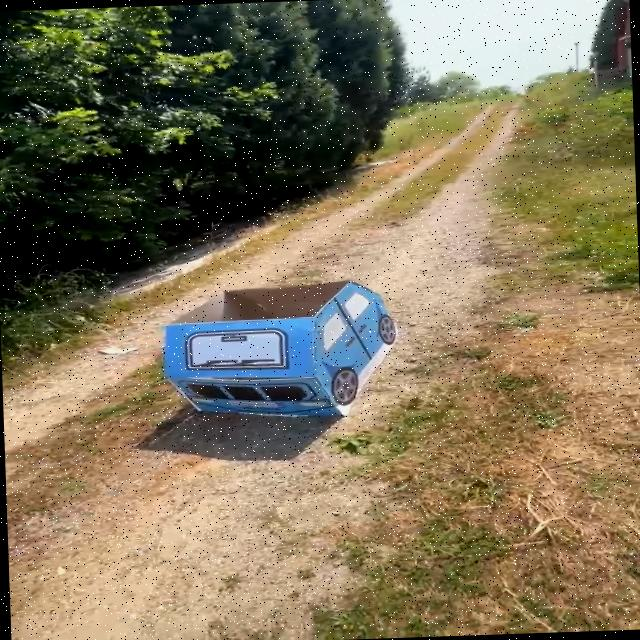blue_car: (149, 264, 423, 435)
